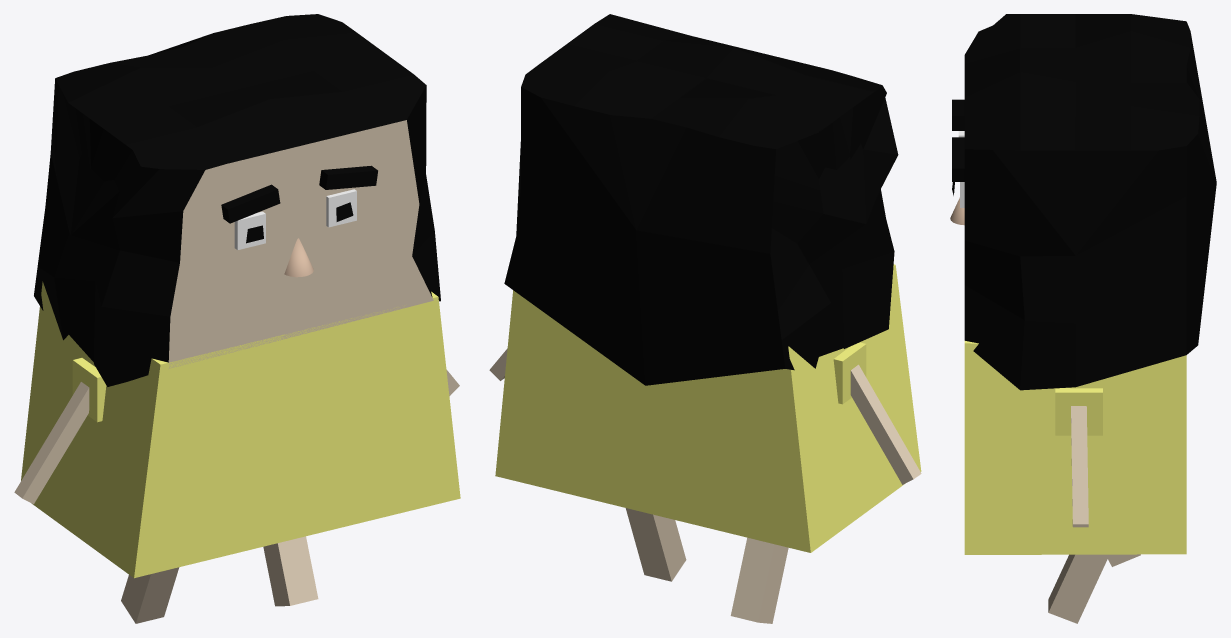
File: new201vertexGirl 1.fbx
3 renders of one model, left to right at view 1: azimuth 30°, elevation 25°; view 2: azimuth 150°, elevation 25°; view 3: azimuth 270°, elevation 25°, orthographic. The views are drawn at different scales.
Parts seen in each view (by area): view 1: polySurface2, polySurface1, polySurface5, polySurface4, polySurface3, polySurface6, polySurface9, polySurface10, polySurface11, polySurface12, polySurface13; view 2: polySurface2, polySurface1, polySurface3, polySurface4, polySurface5, polySurface6; view 3: polySurface2, polySurface1, polySurface4, polySurface8, polySurface7, polySurface10, polySurface9.
Boxes of the visible parts, <box> form: polySurface2: <box>34,14,440,386</box>; polySurface1: <box>21,282,460,578</box>; polySurface5: <box>14,382,89,504</box>; polySurface4: <box>263,536,318,606</box>; polySurface3: <box>121,567,179,623</box>; polySurface6: <box>72,358,106,422</box>; polySurface9: <box>221,184,280,223</box>; polySurface10: <box>319,165,377,189</box>; polySurface11: <box>234,211,265,250</box>; polySurface12: <box>326,189,356,227</box>; polySurface13: <box>284,238,313,277</box>; polySurface2: <box>504,14,898,385</box>; polySurface1: <box>495,264,921,552</box>; polySurface3: <box>730,537,788,623</box>; polySurface4: <box>625,508,686,581</box>; polySurface5: <box>850,364,921,484</box>; polySurface6: <box>833,342,866,404</box>; polySurface2: <box>964,14,1216,390</box>; polySurface1: <box>964,341,1186,554</box>; polySurface4: <box>1048,554,1109,623</box>; polySurface8: <box>1071,406,1088,527</box>; polySurface7: <box>1055,388,1102,435</box>; polySurface10: <box>952,137,964,181</box>; polySurface9: <box>952,99,964,130</box>.
Size of the model in its own units: 1.55 by 1.84 by 0.8412.
